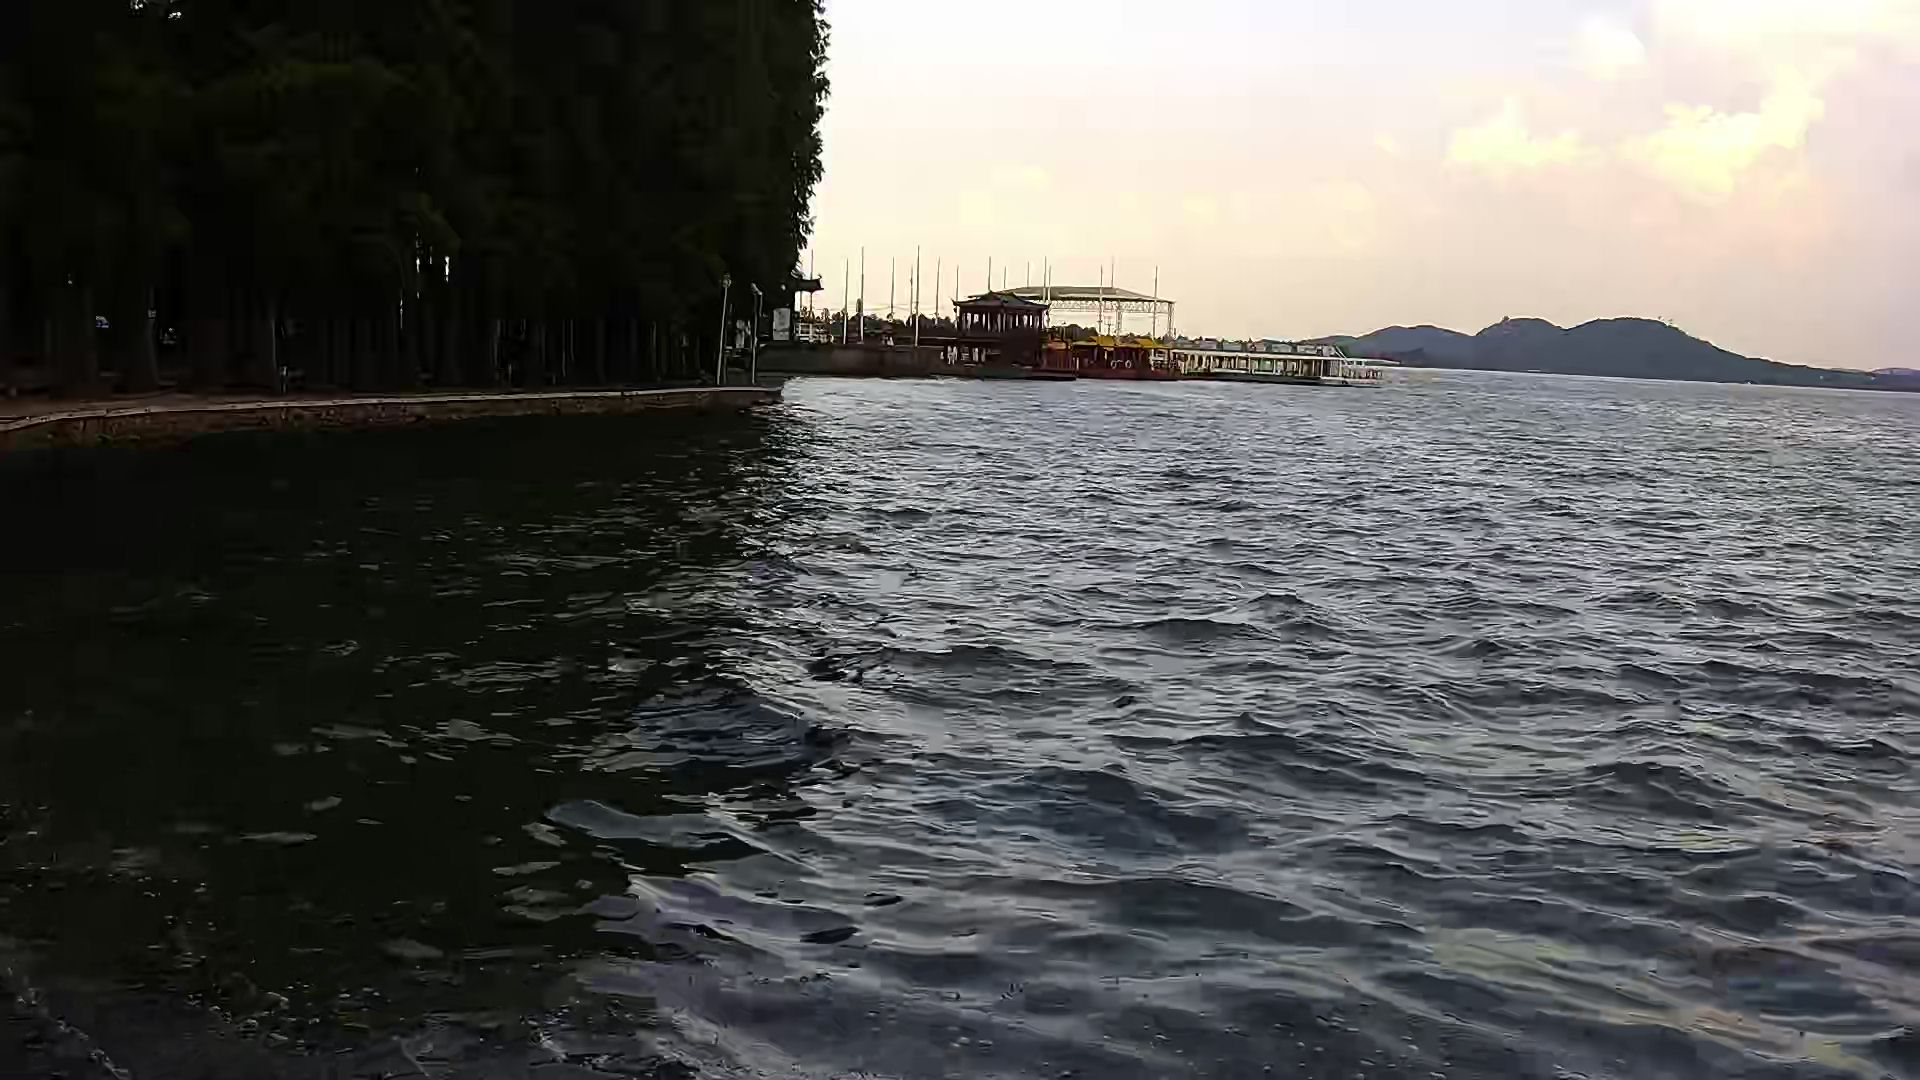boat: (1179, 338, 1379, 392)
harbor: (800, 328, 977, 381)
